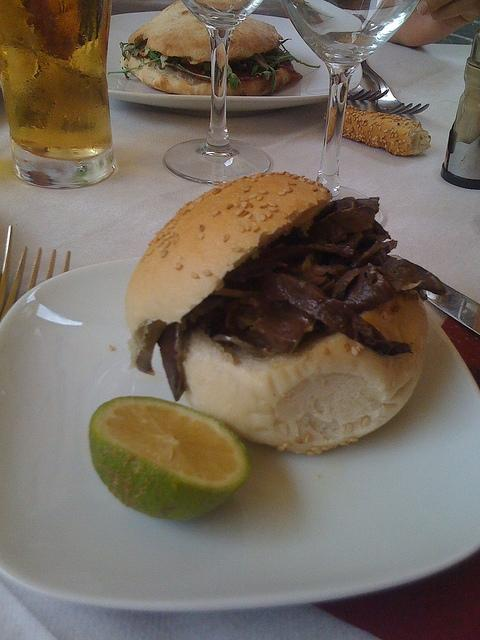lime: (88, 394, 253, 520)
